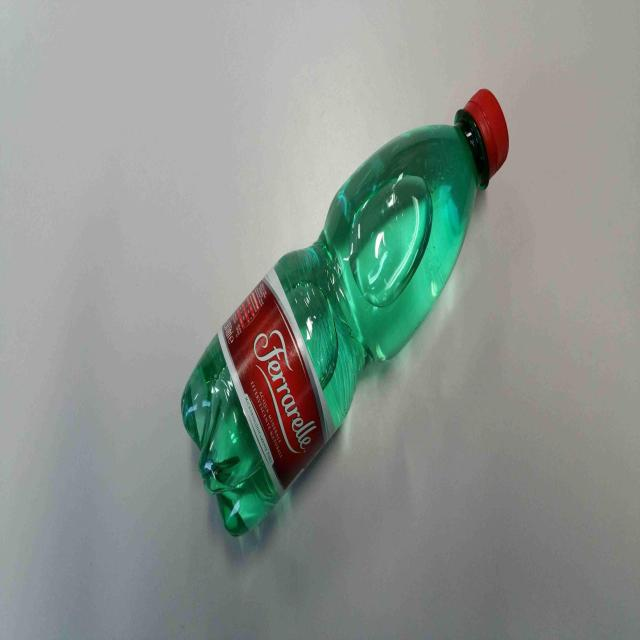bottle-plastic: (174, 81, 516, 549)
